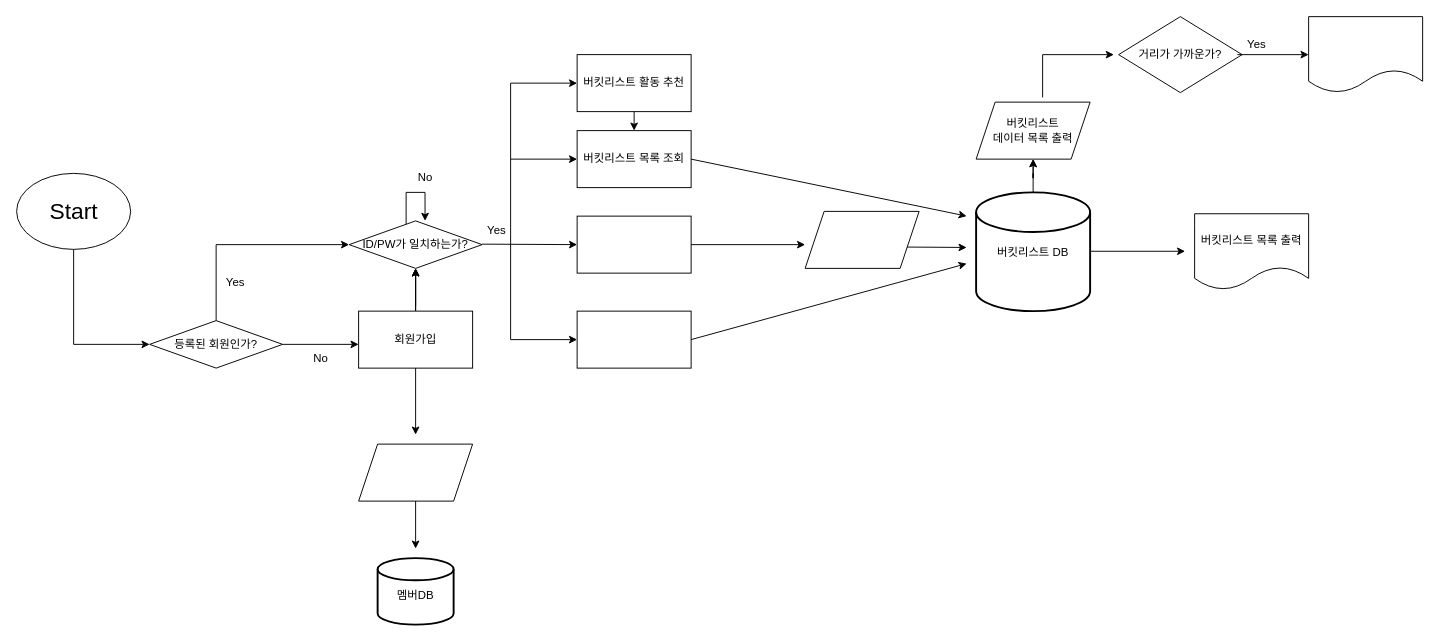
Some shapes in this 1439 by 642 pixel diagram are drawn without their labels. Each missing label, with the box of its shape:
경로 출력: (1308, 16, 1423, 93)
버킷리스트 목록 삭제: (576, 310, 691, 368)
버킷리스트 목록 추가: (576, 215, 691, 273)
활동 정보 입력: (804, 210, 919, 268)
회원정보 입력: (358, 443, 473, 501)
